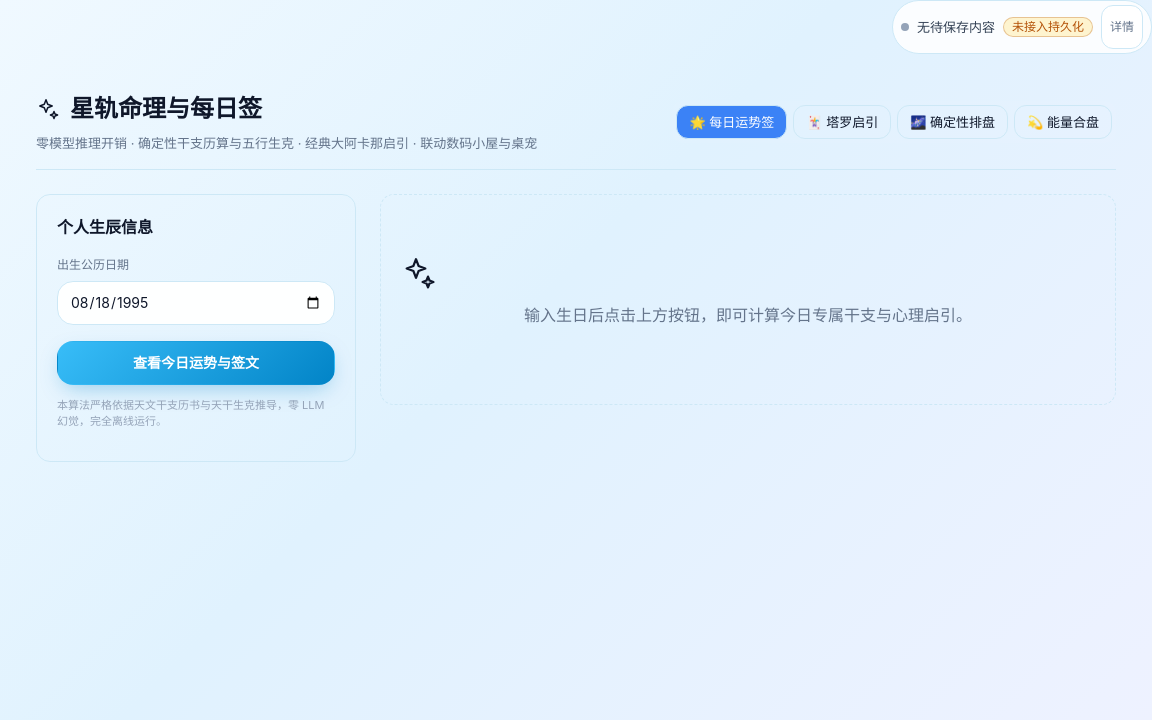
Test case: FortunePage 合盘仅供娱乐标注（I-11） › 结果区顶部显著标注仅供娱乐并展示 disclaimer
The image size is (1152, 720).
Click the button "💫 能量合盘" at (1063, 122), box [1014, 105, 1112, 139]
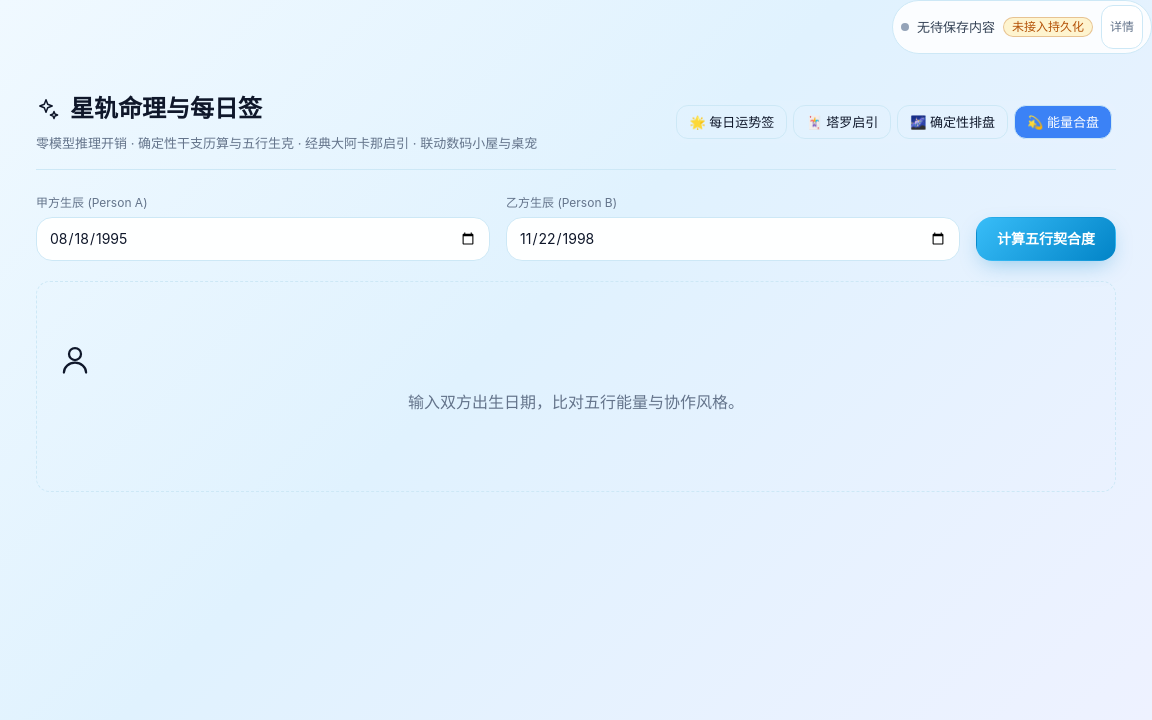
Click the button "计算五行契合度" at (1046, 239), box [976, 217, 1116, 261]
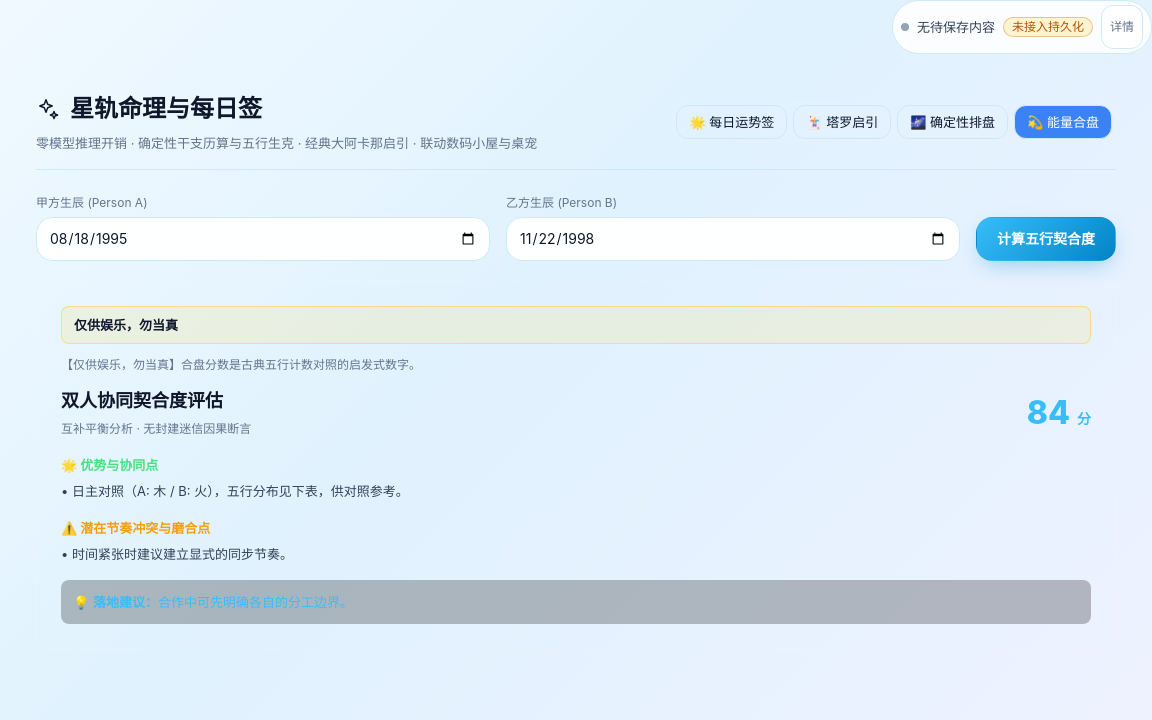
Now the text with test id "synastry-entertainment-note" reads "仅供娱乐，勿当真", box [74, 317, 178, 333]
Now the text with test id "synastry-disclaimer" shows "仅供娱乐", box [61, 357, 421, 372]
